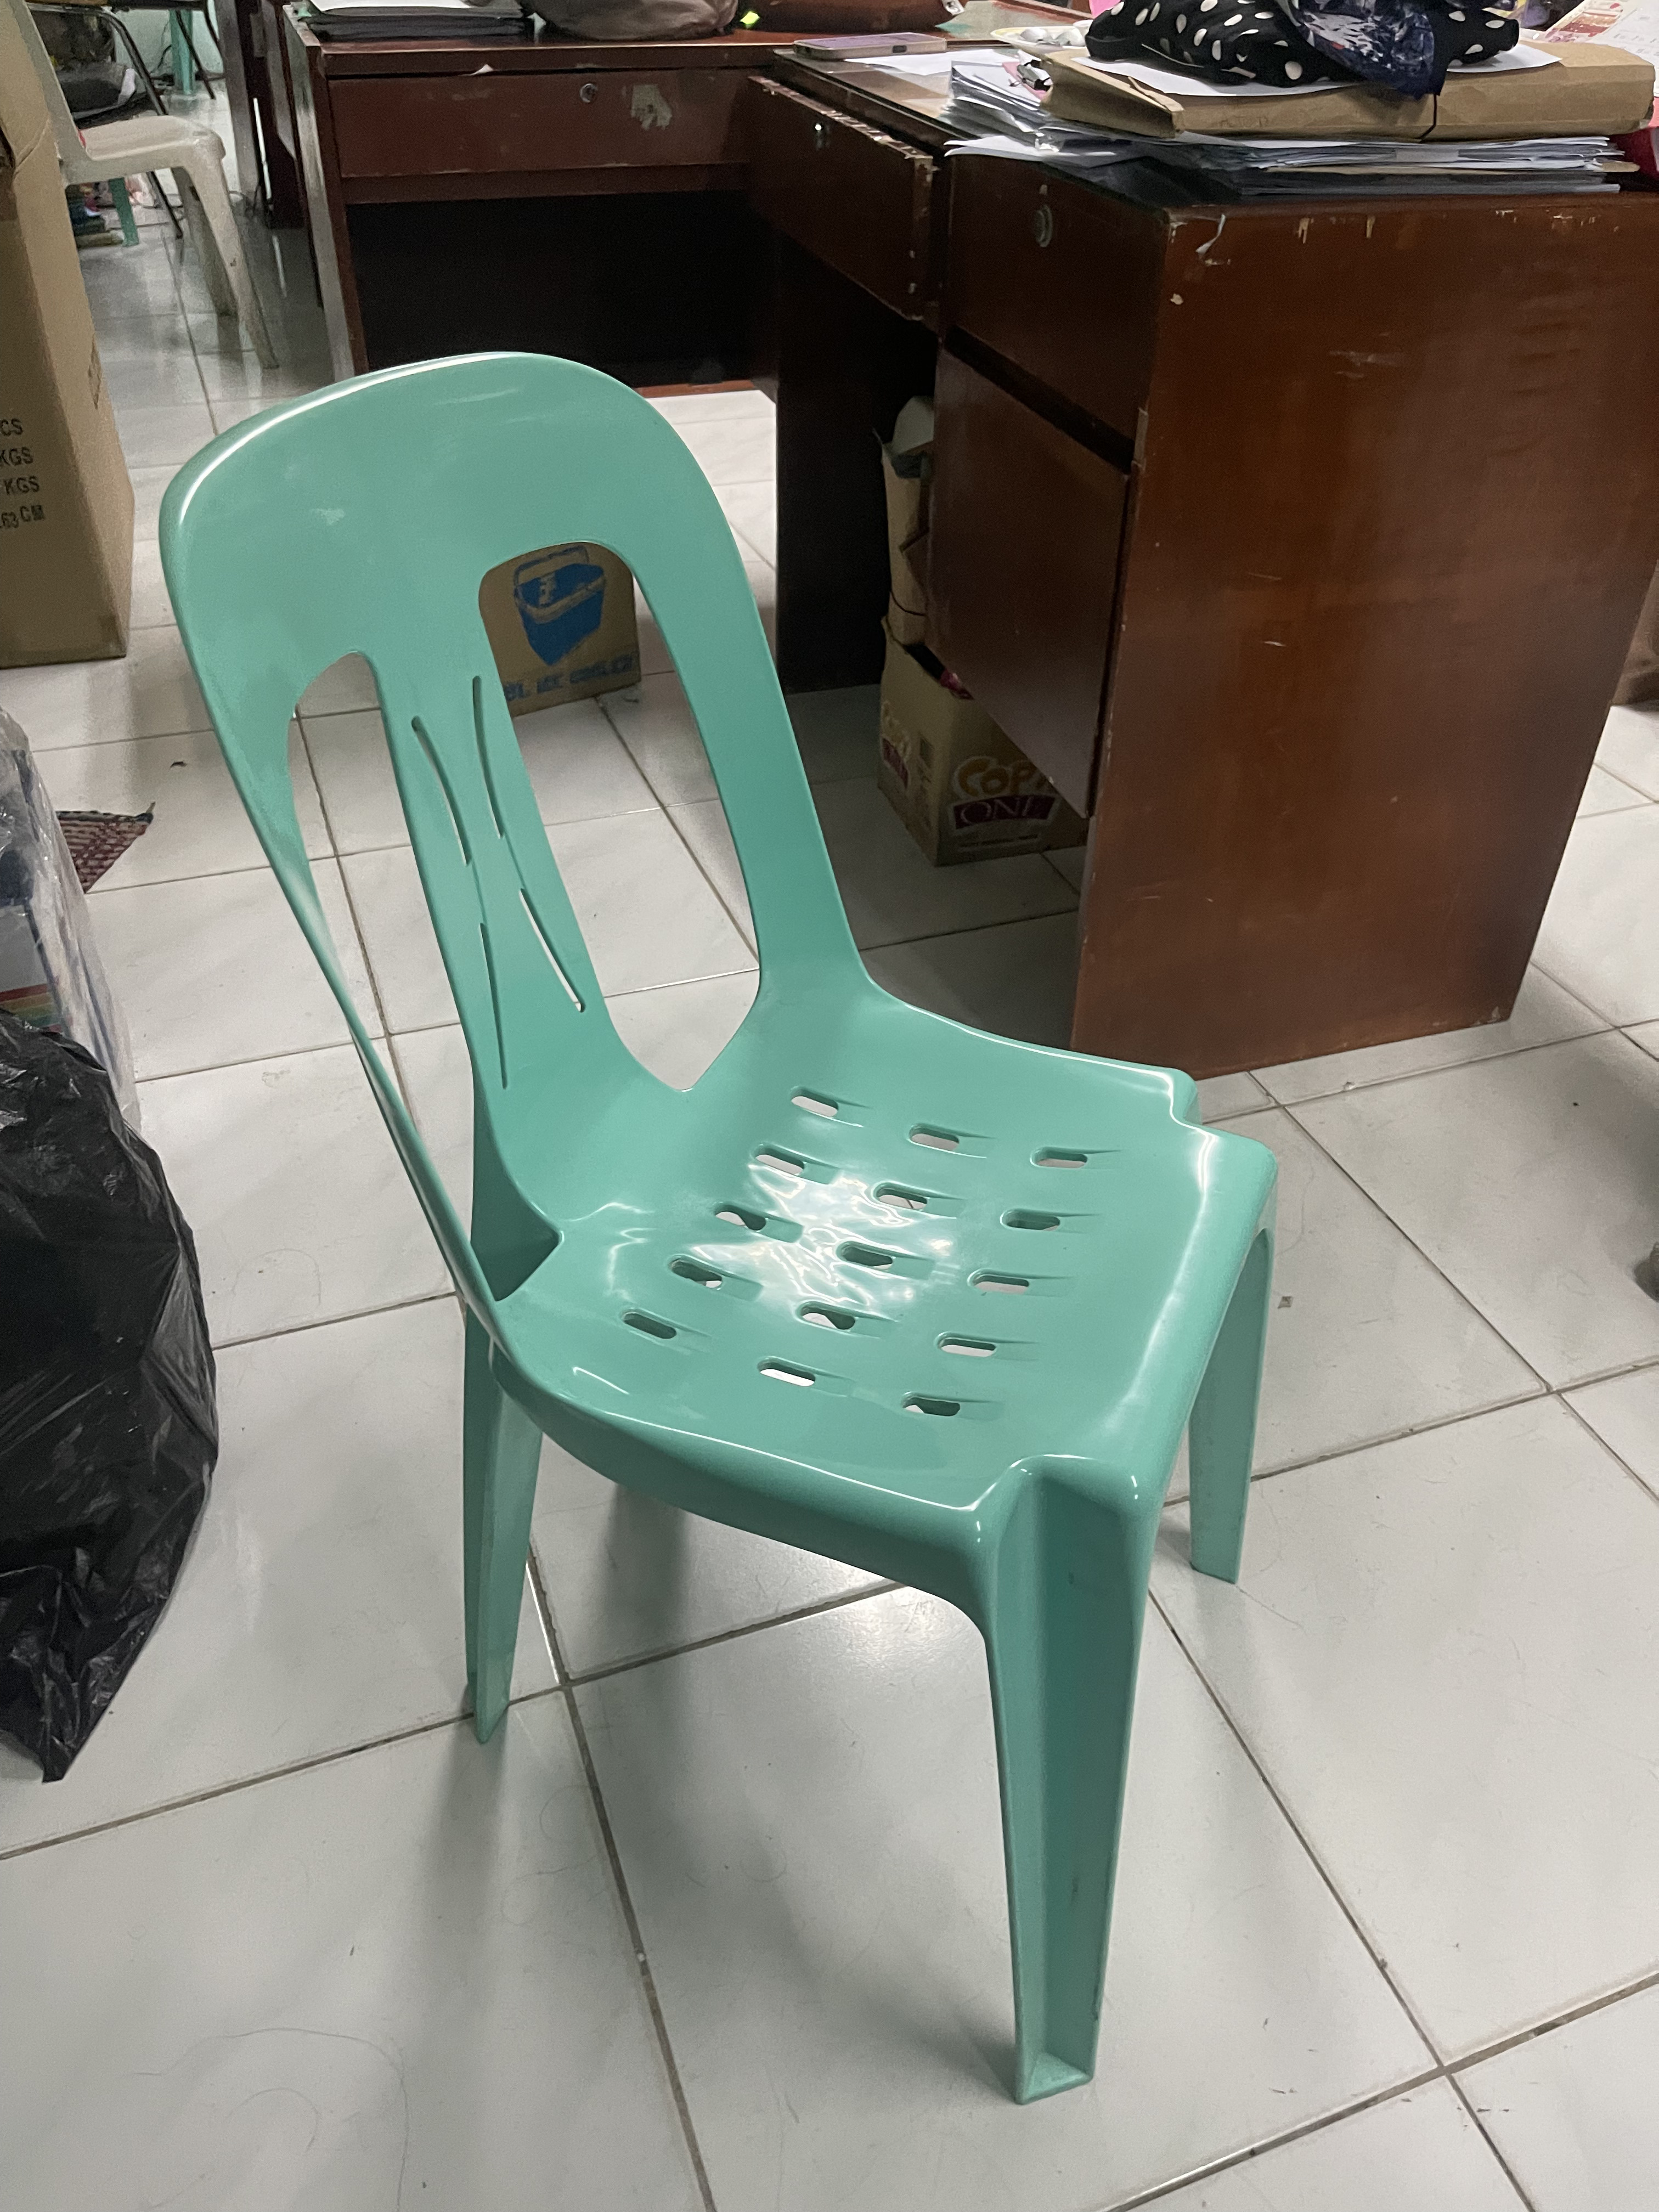chair2: (152, 343, 1291, 2132)
